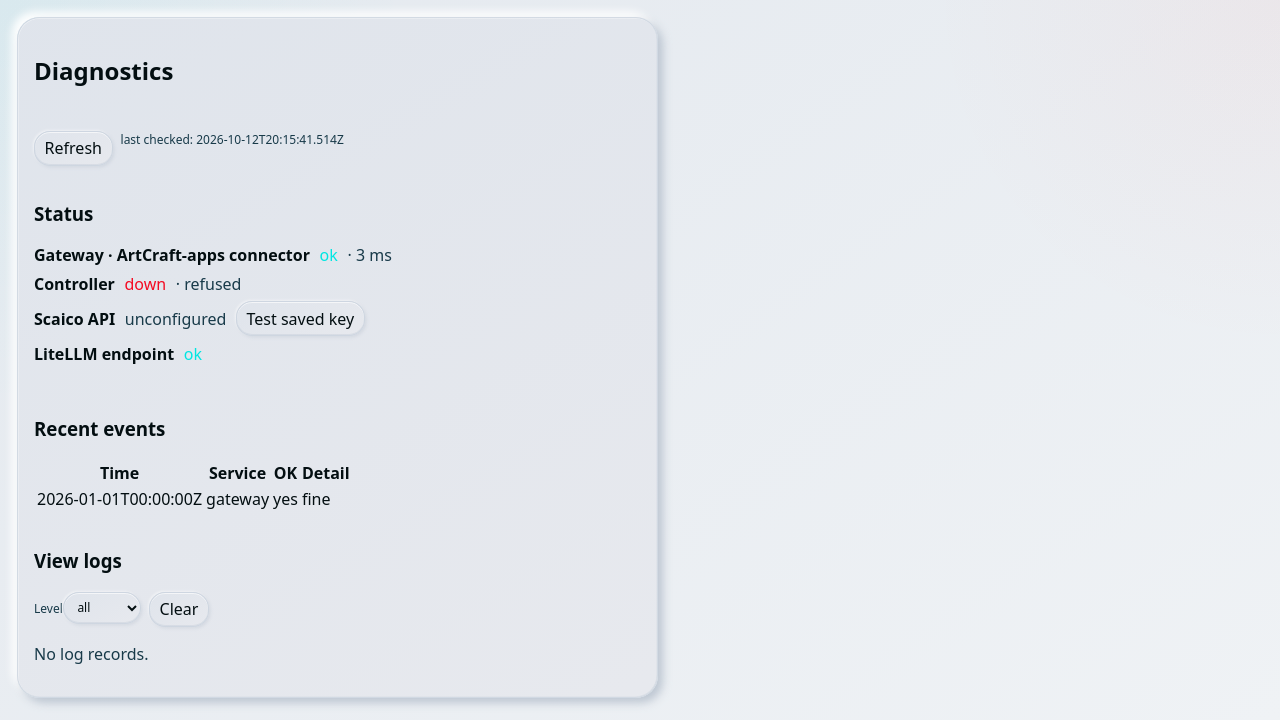
Test: Diagnostics › tests the saved Scaico key with an empty body
Click the button "Test saved key" at (300, 319), box [236,301,365,336]
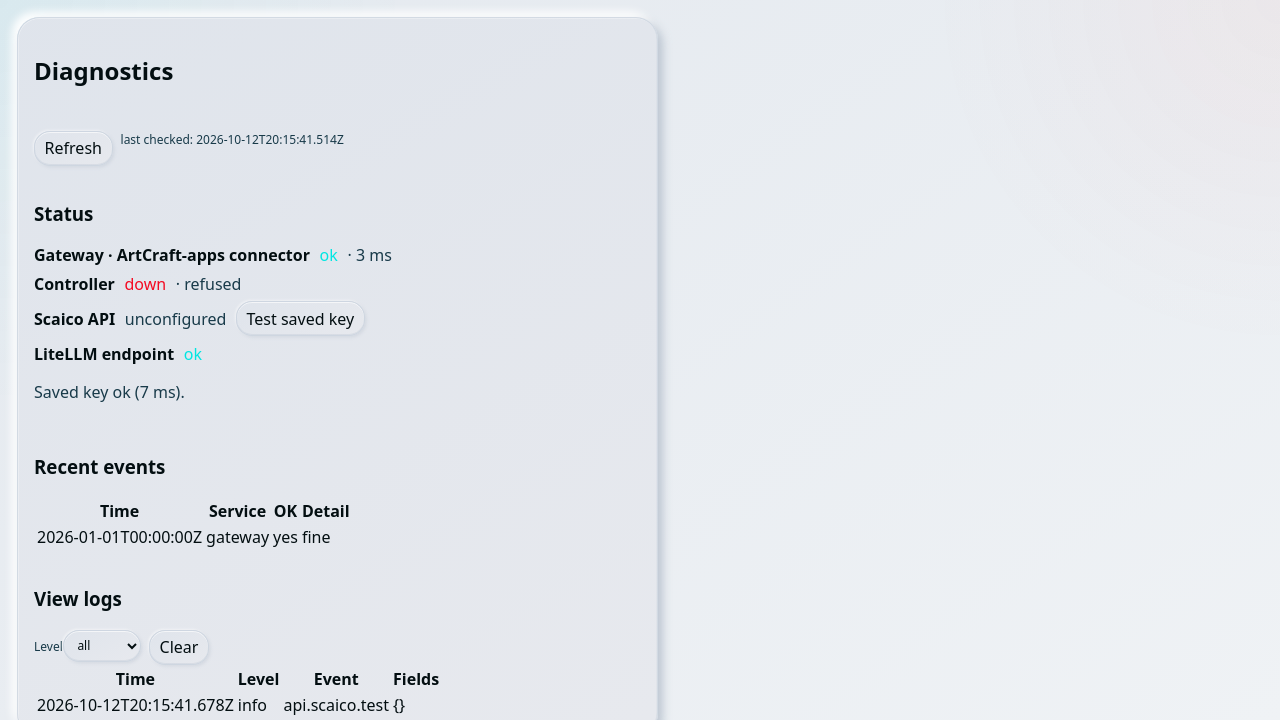
Result: the text "Saved key ok (7 ms)." is shown at [34,381,185,403]
